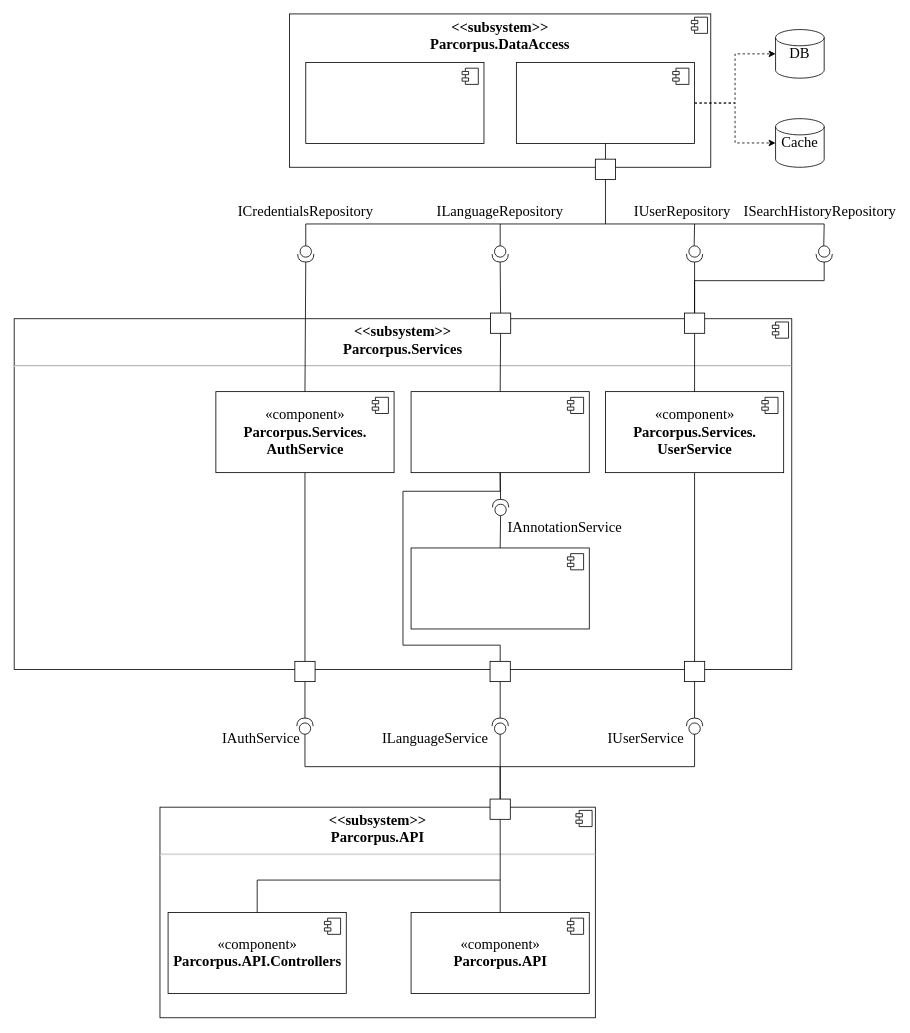
Some shapes in this 910 by 1033 pixel diagram are drawn without their labels. Here are the shapes that lost their labels. From the top down, the centre of each, then its label:
(x=394, y=103): «component» Parcorpus.DataAccess. Models
(x=605, y=103): «component» Parcorpus.DataAccess. Repositories
(x=499, y=432): «component» Parcorpus.Services. LanguageService
(x=499, y=588): «component» Parcorpus.Services. AnnotationService
